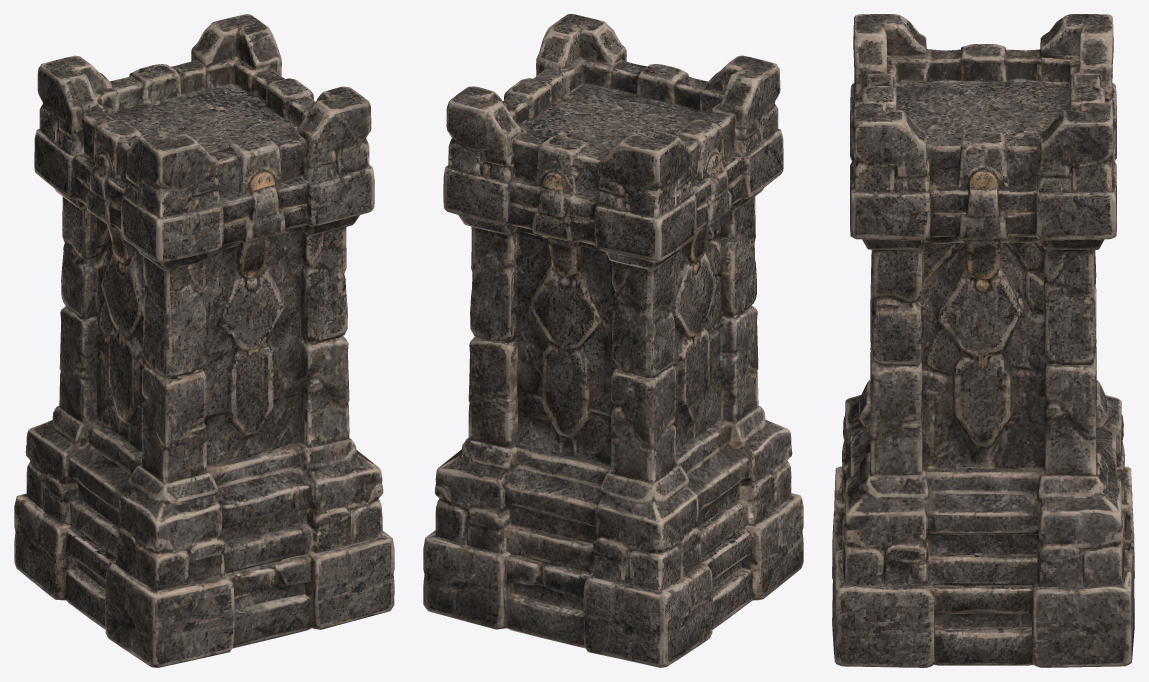
The model's file is fort_m_volcano_tower.glb.
3 renders of one model, left to right at view 1: azimuth 30°, elevation 25°; view 2: azimuth 150°, elevation 25°; view 3: azimuth 270°, elevation 25°, orthographic. The views are drawn at different scales.
Parts seen in each view (by area): view 1: fort_m_volcano_tower; view 2: fort_m_volcano_tower; view 3: fort_m_volcano_tower.
Part boxes in pixels (<box>): fort_m_volcano_tower: <box>14,14,394,667</box>; fort_m_volcano_tower: <box>423,14,803,667</box>; fort_m_volcano_tower: <box>832,14,1134,667</box>.
Size of the model in its own units: 0.9674 by 1.9 by 0.9675.
Materials: 1 (1 with a texture image).
